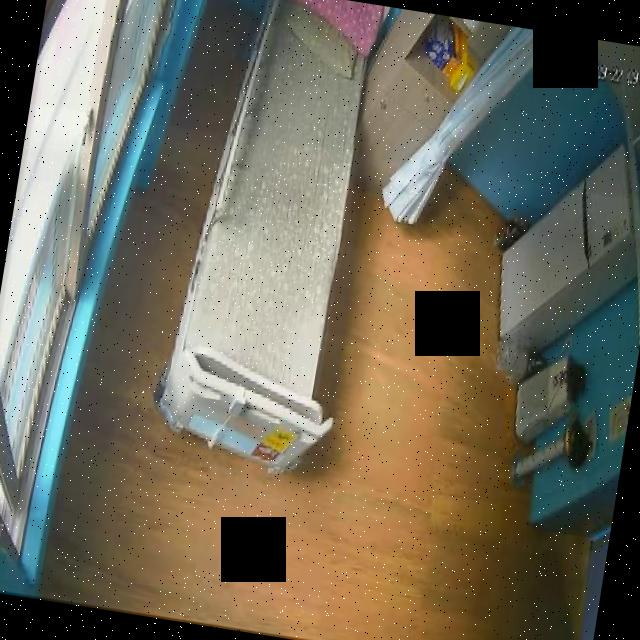bed: (156, 0, 385, 469)
